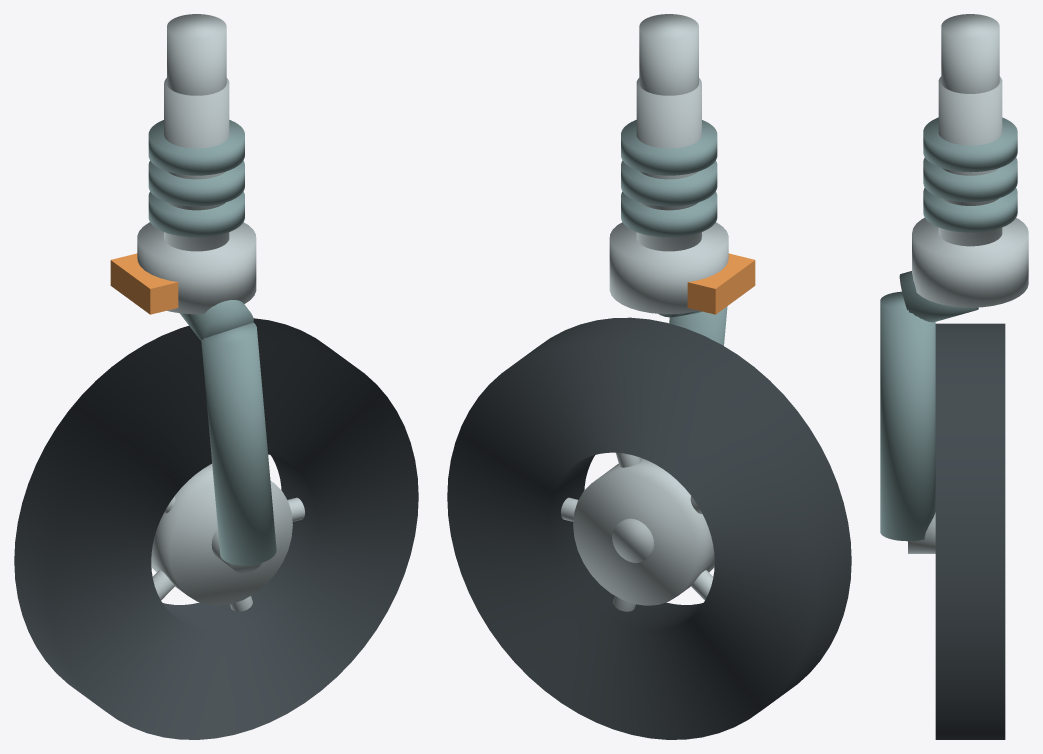
Rendered from wheel-front-right-s.glb.
3 renders of one model, left to right at view 1: azimuth 30°, elevation 25°; view 2: azimuth 150°, elevation 25°; view 3: azimuth 270°, elevation 25°, orthographic. The views are drawn at different scales.
Visible parts, largest first — view 1: FR_tire.009, FR_fork.009, FR_sealed_hub.009, FR_steering_bearing.009, vertical_front_guide_1.010, vertical_front_spigot_1.010, front_light_elastomer_1_2.010, front_light_elastomer_1_0.010, front_light_elastomer_1_1.010, FR_straight_lock.009, FR_fork_bridge.009; view 2: FR_tire.009, FR_sealed_hub.009, FR_steering_bearing.009, vertical_front_guide_1.010, vertical_front_spigot_1.010, front_light_elastomer_1_2.010, front_light_elastomer_1_0.010, front_light_elastomer_1_1.010, FR_straight_lock.009, FR_captive_axle.009, FR_fork.009; view 3: FR_tire.009, FR_fork.009, FR_steering_bearing.009, vertical_front_guide_1.010, vertical_front_spigot_1.010, front_light_elastomer_1_2.010, front_light_elastomer_1_1.010, front_light_elastomer_1_0.010, FR_fork_bridge.009, FR_captive_axle.009.
Part boxes in pixels (x1,y1,x2,y2): FR_tire.009: [14, 318, 418, 739]; FR_fork.009: [201, 322, 276, 565]; FR_sealed_hub.009: [151, 464, 292, 605]; FR_steering_bearing.009: [137, 222, 256, 314]; vertical_front_guide_1.010: [164, 78, 229, 251]; vertical_front_spigot_1.010: [167, 14, 226, 95]; front_light_elastomer_1_2.010: [148, 120, 244, 175]; front_light_elastomer_1_0.010: [148, 191, 244, 237]; front_light_elastomer_1_1.010: [148, 160, 244, 206]; FR_straight_lock.009: [110, 253, 178, 314]; FR_fork_bridge.009: [180, 300, 253, 340]; FR_tire.009: [447, 317, 851, 739]; FR_sealed_hub.009: [573, 458, 714, 605]; FR_steering_bearing.009: [609, 222, 728, 314]; vertical_front_guide_1.010: [636, 78, 701, 251]; vertical_front_spigot_1.010: [639, 14, 698, 95]; front_light_elastomer_1_2.010: [621, 120, 717, 175]; front_light_elastomer_1_0.010: [621, 191, 717, 237]; front_light_elastomer_1_1.010: [621, 160, 717, 206]; FR_straight_lock.009: [687, 253, 755, 314]; FR_captive_axle.009: [612, 518, 654, 562]; FR_fork.009: [669, 306, 727, 345]; FR_tire.009: [935, 323, 1005, 739]; FR_fork.009: [880, 291, 935, 541]; FR_steering_bearing.009: [912, 217, 1028, 307]; vertical_front_guide_1.010: [938, 76, 1002, 246]; vertical_front_spigot_1.010: [941, 14, 999, 93]; front_light_elastomer_1_2.010: [923, 117, 1017, 172]; front_light_elastomer_1_1.010: [923, 157, 1017, 202]; front_light_elastomer_1_0.010: [923, 188, 1017, 232]; FR_fork_bridge.009: [899, 271, 978, 322]; FR_captive_axle.009: [908, 512, 935, 553].
Size of the model in its own units: 0.15 by 0.272 by 0.0535.
